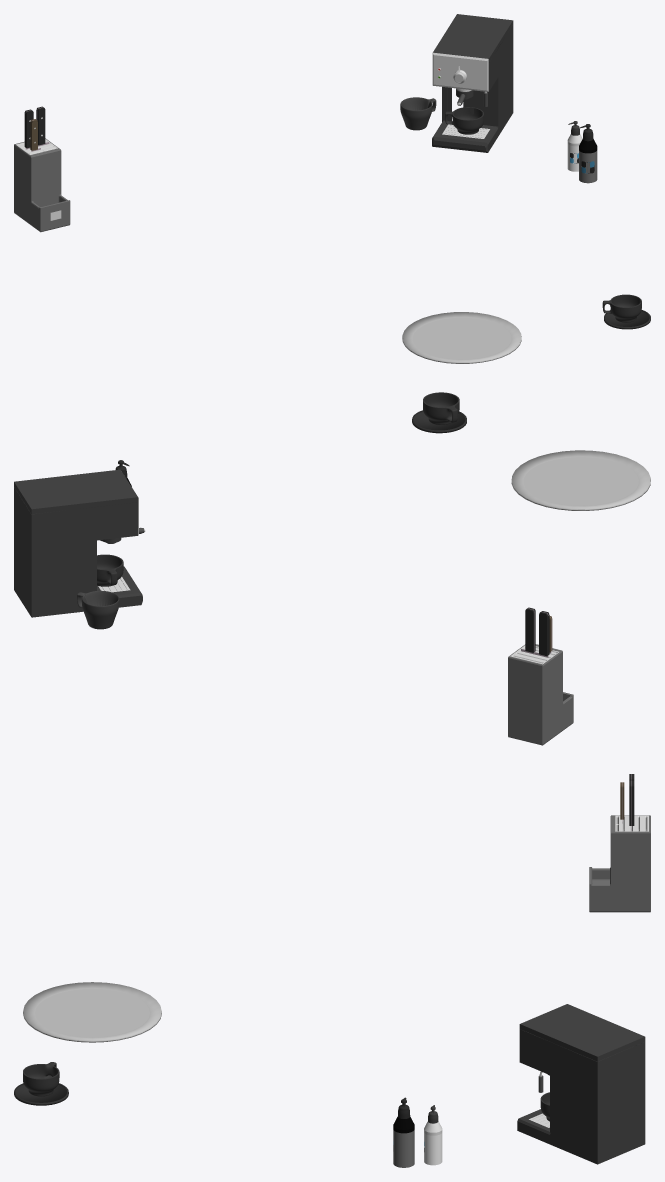
The model's file is counterdecor.glb.
3 views of the same model, one above another, from view 1: azimuth 30°, elevation 25°; view 2: azimuth 150°, elevation 25°; view 3: azimuth 270°, elevation 25° (orthographic). The views are drawn at different scales.
Parts seen in each view (by area): view 1: Coffee Machine, plate.001, Knifeware, Cup, dishwashing liquid, Coffee Cup.001, Coffee Cup, dishwashing liquid.001, Coffee Dish; view 2: Coffee Machine, plate.001, Knifeware, Cup, Coffee Cup.001, Coffee Cup, Coffee Dish; view 3: Coffee Machine, plate.001, Knifeware, dishwashing liquid, Coffee Cup.001, dishwashing liquid.001, Coffee Dish.
Boxes of the visible parts, <box> form: Coffee Machine: <box>432,14,513,152</box>; plate.001: <box>402,312,521,363</box>; Knifeware: <box>14,106,70,232</box>; Cup: <box>400,97,436,130</box>; dishwashing liquid: <box>579,124,597,183</box>; Coffee Cup.001: <box>602,294,641,322</box>; Coffee Cup: <box>445,107,483,134</box>; dishwashing liquid.001: <box>567,121,582,171</box>; Coffee Dish: <box>604,310,650,329</box>; Coffee Machine: <box>14,469,145,617</box>; plate.001: <box>511,450,650,510</box>; Knifeware: <box>508,607,573,745</box>; Cup: <box>77,590,119,629</box>; Coffee Cup.001: <box>423,392,459,424</box>; Coffee Cup: <box>97,554,123,586</box>; Coffee Dish: <box>412,410,466,433</box>; Coffee Machine: <box>517,1004,645,1164</box>; plate.001: <box>23,982,161,1042</box>; Knifeware: <box>589,774,650,912</box>; dishwashing liquid: <box>393,1097,414,1167</box>; Coffee Cup.001: <box>23,1062,59,1096</box>; dishwashing liquid.001: <box>424,1105,442,1165</box>; Coffee Dish: <box>14,1083,68,1105</box>.
Bounding box in the file's own units: 94.12 × 22.35 × 93.88.
Materials: 33 (2 with a texture image).
